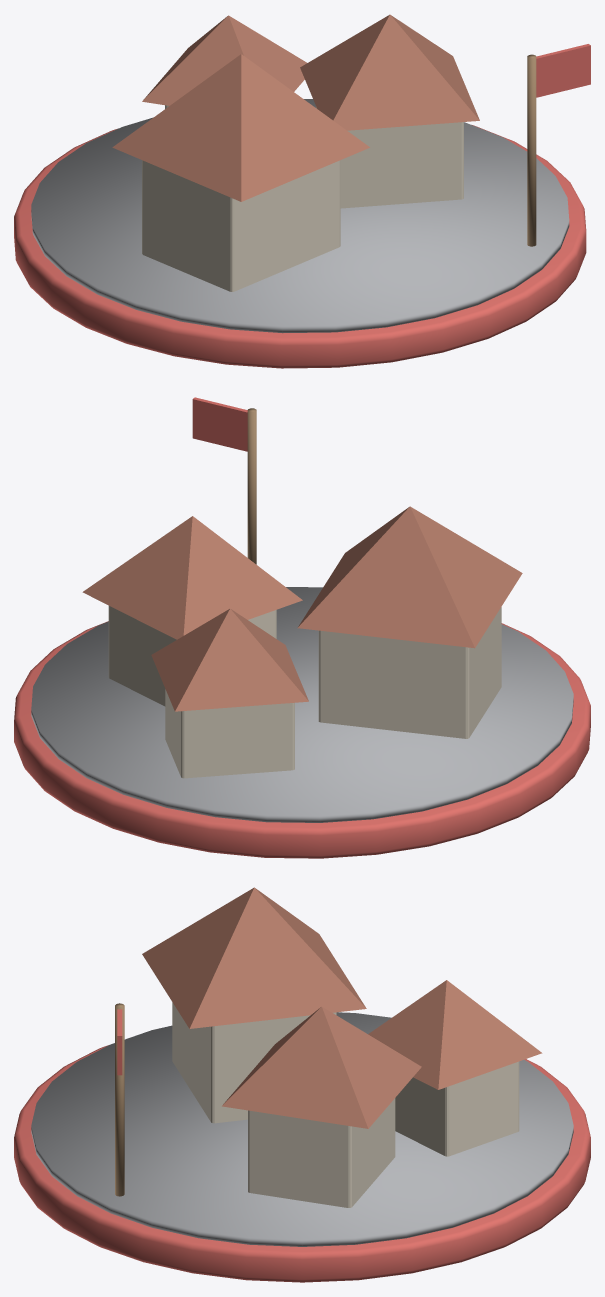
Rendered from town.glb.
3 renders of one model, top to bottom at view 1: azimuth 30°, elevation 25°; view 2: azimuth 150°, elevation 25°; view 3: azimuth 270°, elevation 25°, orthographic.
Parts seen in each view (by area): view 1: town; view 2: town; view 3: town.
Boxes of the visible parts, x1,y1,x2,y2 form: town: (14,14,590,368); town: (14,397,590,858); town: (14,887,590,1282).
Size of the model in its own units: 0.6 by 0.2695 by 0.6.
